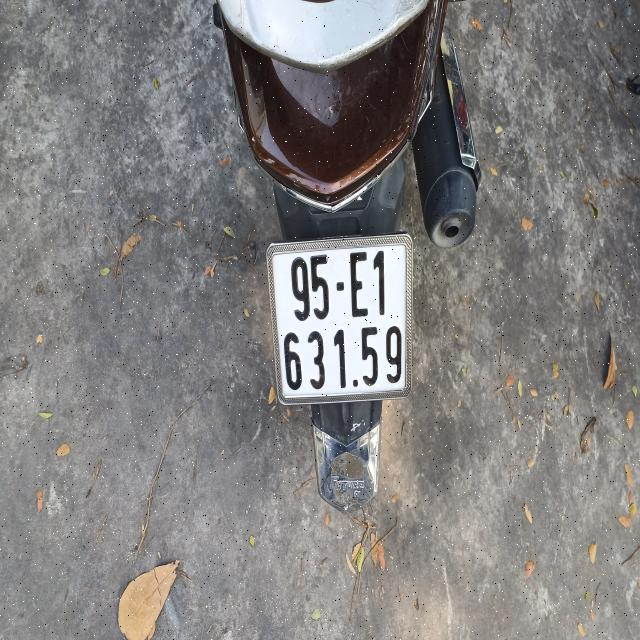1: (307, 332, 326, 394), (372, 248, 386, 316), (333, 328, 347, 391)
5: (310, 253, 330, 321), (360, 326, 380, 386)
6: (282, 330, 303, 391)
9: (291, 256, 311, 326), (385, 325, 403, 387)
E: (348, 250, 370, 317)
